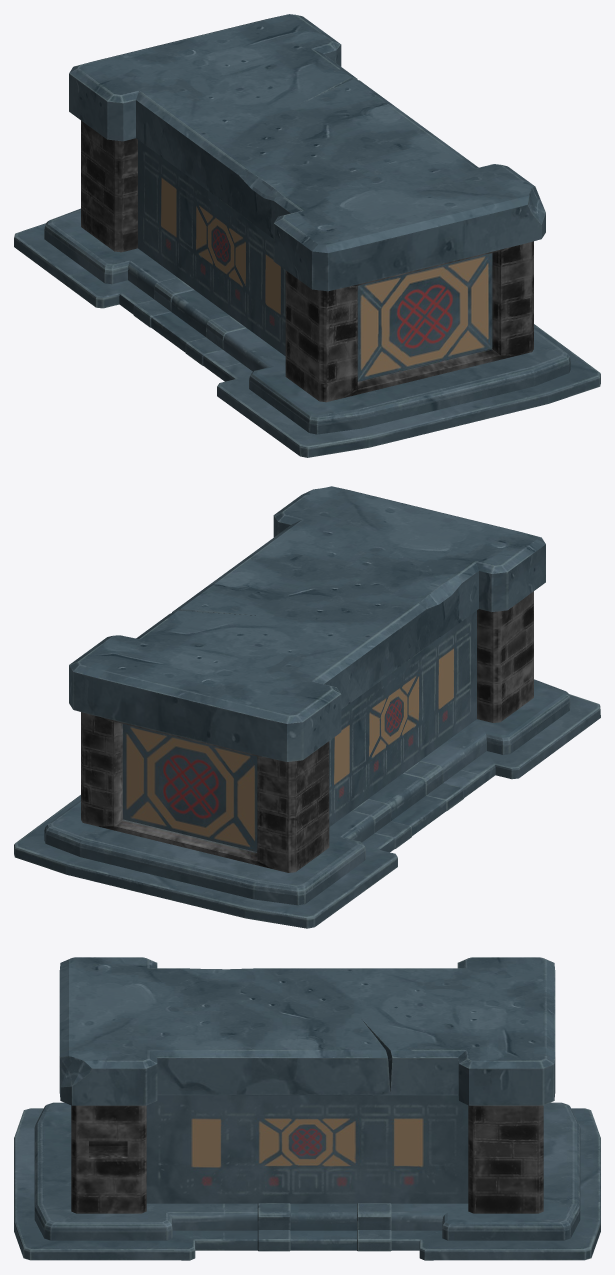
Rendered from altar.glb.
3 views of the same model, one above another, from view 1: azimuth 30°, elevation 25°; view 2: azimuth 150°, elevation 25°; view 3: azimuth 270°, elevation 25° (orthographic). The views are drawn at different scales.
Visible parts, largest first — view 1: Altar_low_002; view 2: Altar_low_002; view 3: Altar_low_002.
Boxes of the visible parts, bbox=[...] form: Altar_low_002: bbox=[14, 14, 600, 457]; Altar_low_002: bbox=[14, 486, 600, 928]; Altar_low_002: bbox=[14, 957, 600, 1260].
Bounding box in the file's own units: 1.15 × 0.6769 × 2.
1 material, 1 textured.
